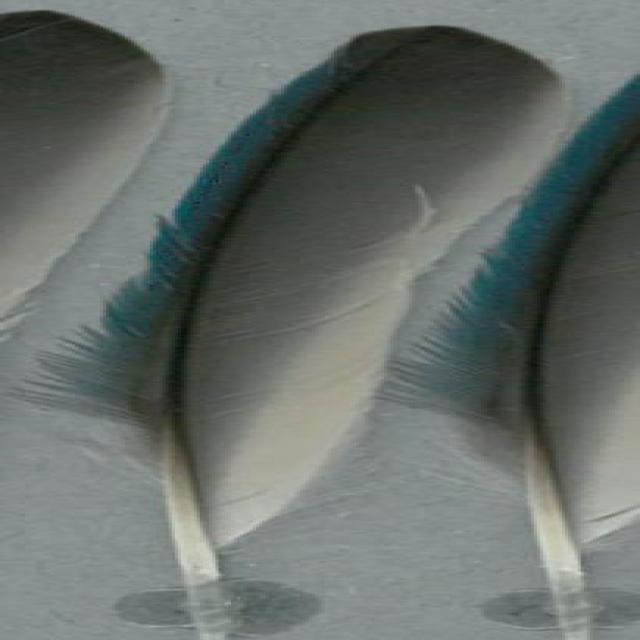feather: (11, 24, 567, 640), (374, 72, 640, 640)
